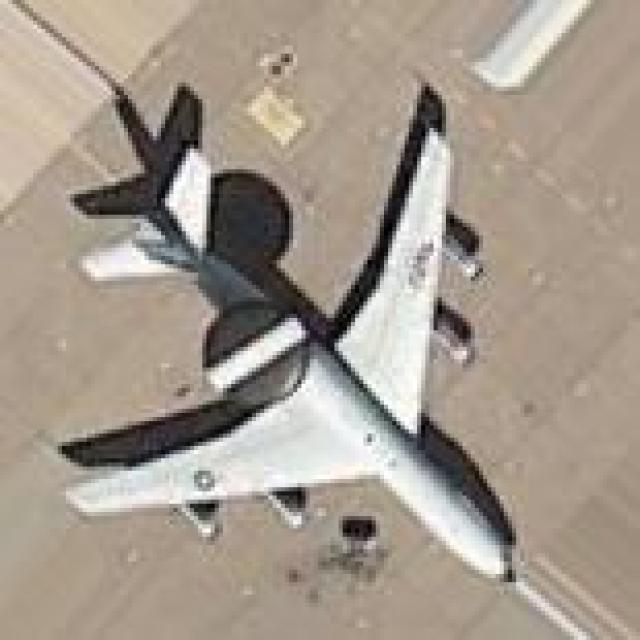E-3_TopDown: (50, 70, 520, 582)
